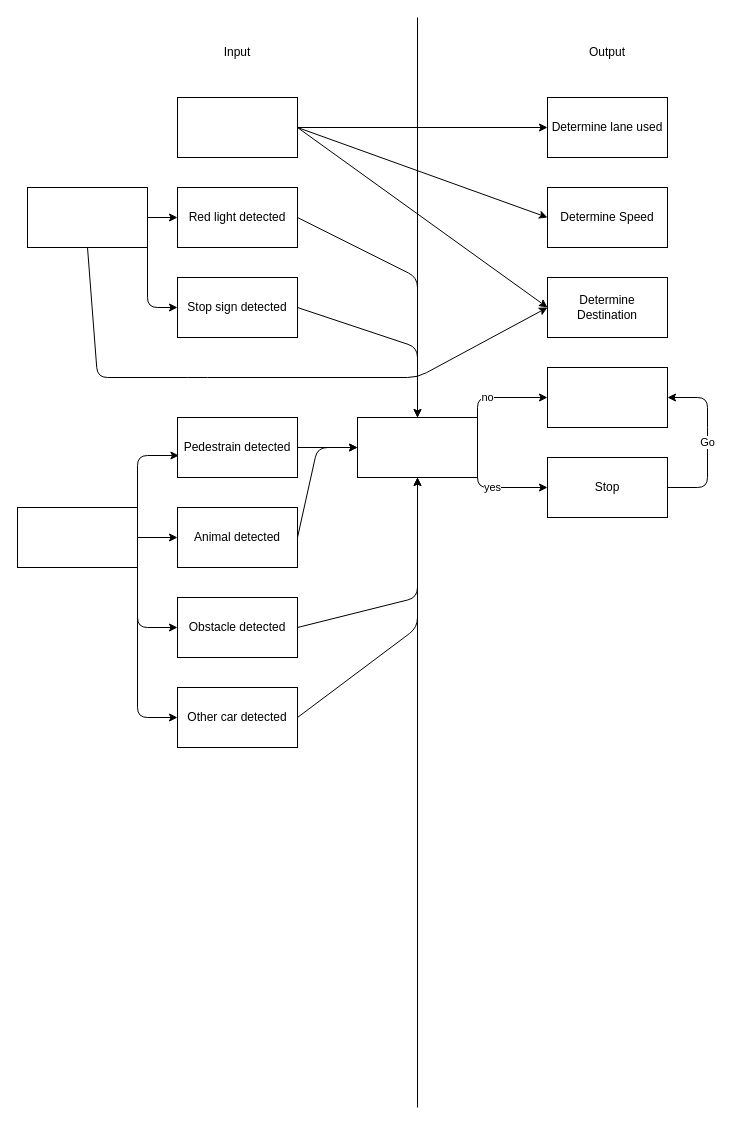
The diagram is 733 pixels wide and 1126 high, and some of its shapes have lost their labels. Each missing label, with the centre of its shape:
"Continue on route" goes at point 607,397.
"Map data, A* pathing" goes at point 87,217.
"Satalite data" goes at point 237,127.
"Visual sensor data" goes at point 77,537.
"Would impede path" goes at point 417,447.
